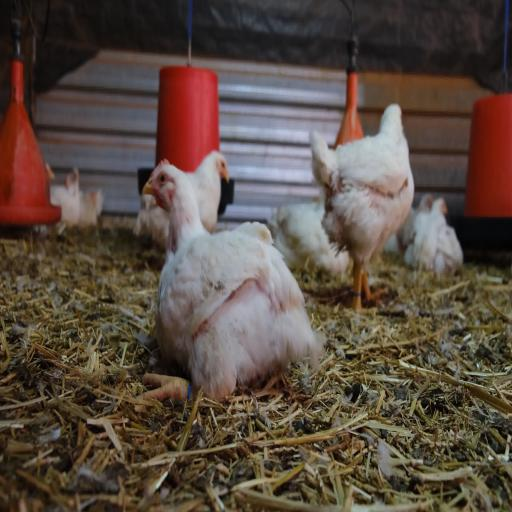healthy: (146, 152, 181, 211)
